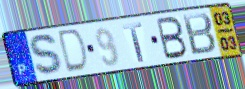9: (95, 25, 121, 68)
B: (181, 11, 218, 57), (155, 16, 189, 62)
D: (57, 27, 90, 75)
S: (28, 32, 67, 78)
T: (121, 21, 146, 63)
